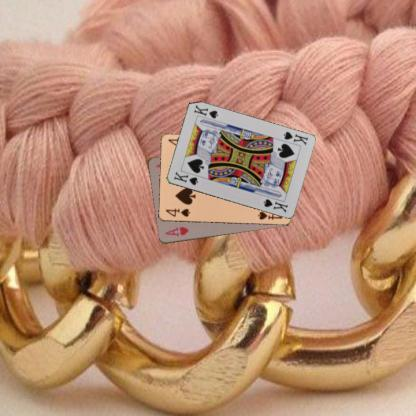4s: (163, 206, 191, 218)
Ah: (162, 224, 190, 238)
Ks: (171, 169, 199, 187), (281, 129, 309, 147)
